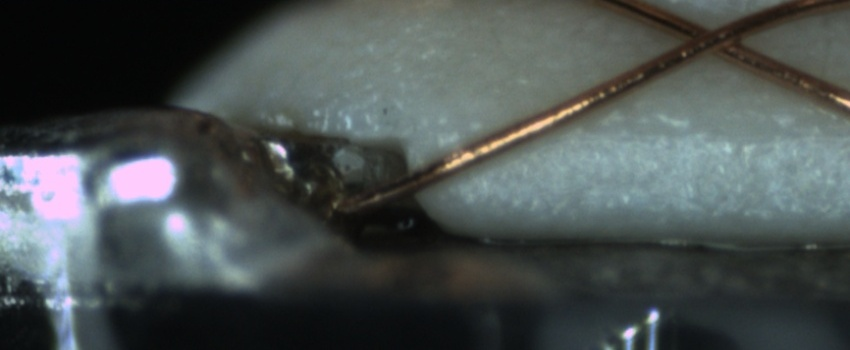CL: (662, 9, 760, 65)
DL: (549, 99, 850, 163)
